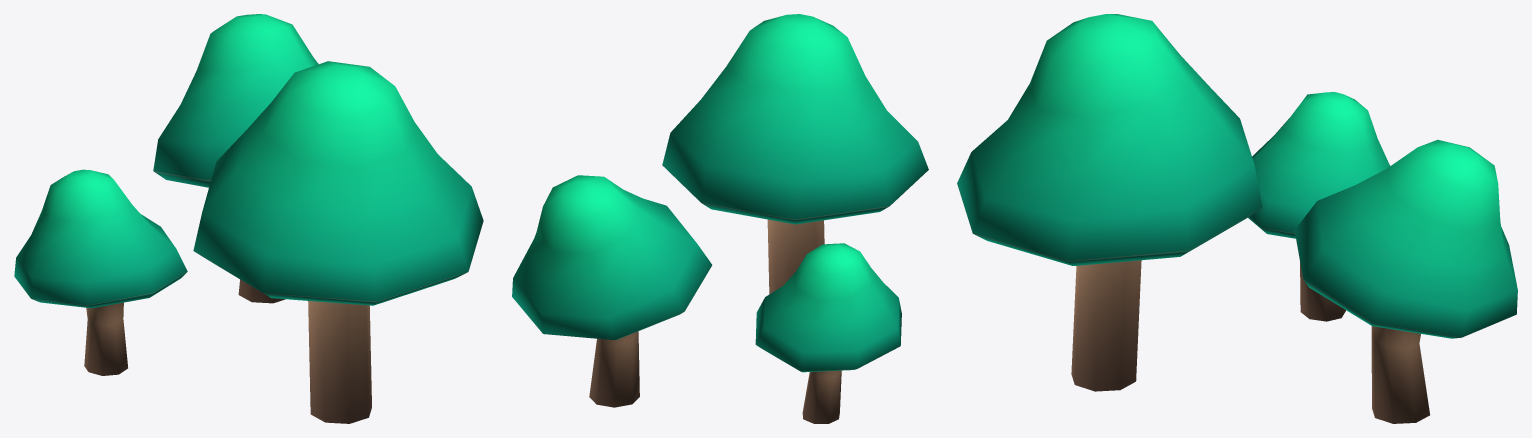
Rendered from green_mushroom.fbx.
The picture shows the model from 3 angles, left to right: view 1: azimuth 30°, elevation 25°; view 2: azimuth 150°, elevation 25°; view 3: azimuth 270°, elevation 25°; orthographic projection. The views are drawn at different scales.
Parts seen in each view (by area): view 1: MushrumC1; view 2: MushrumC1; view 3: MushrumC1.
Boxes of the visible parts, bbox=[...] form: MushrumC1: bbox=[14, 14, 483, 423]; MushrumC1: bbox=[512, 14, 928, 423]; MushrumC1: bbox=[957, 14, 1517, 423].
Bounding box in the file's own units: 130 × 112 × 159.
